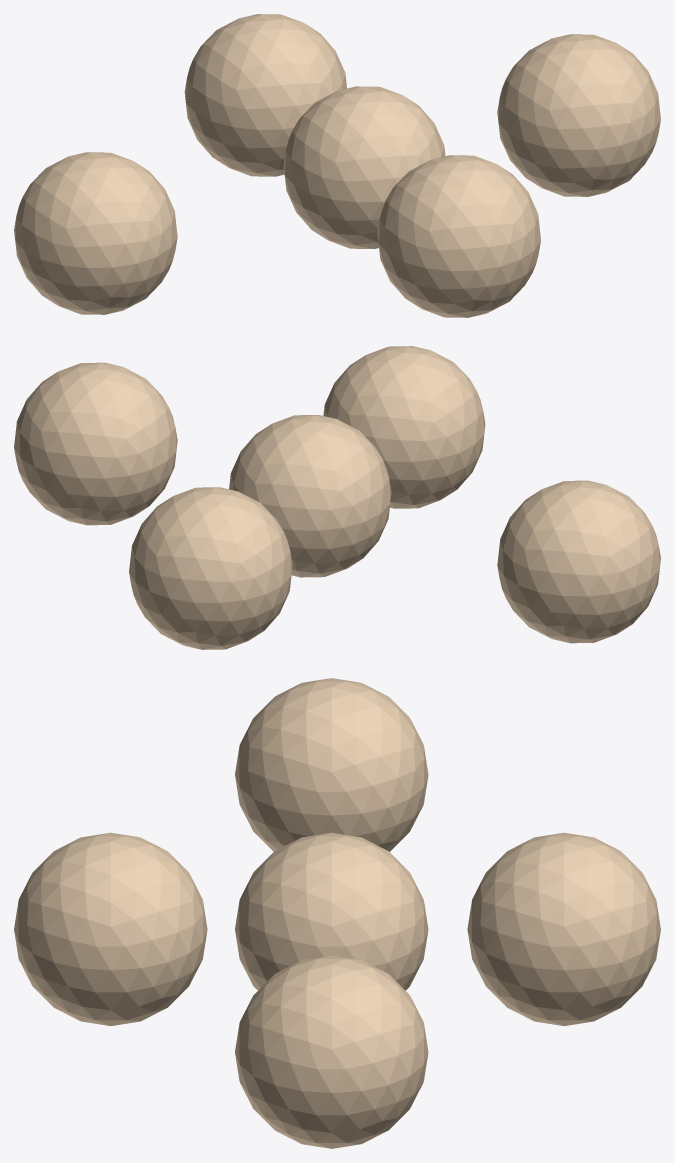
Rendered from SaltPile.fbx.
3 views of the same model, one above another, from view 1: azimuth 30°, elevation 25°; view 2: azimuth 150°, elevation 25°; view 3: azimuth 270°, elevation 25° (orthographic). The views are drawn at different scales.
Parts seen in each view (by area): view 1: Icosphere.001, Icosphere.004, Icosphere.002, Icosphere.003, Icosphere; view 2: Icosphere.003, Icosphere.001, Icosphere.004, Icosphere, Icosphere.002; view 3: Icosphere.004, Icosphere.002, Icosphere.003, Icosphere.001, Icosphere.
Part boxes in pixels (left/top/right/bottom): Icosphere.001: left=14, top=152, right=177, bottom=314; Icosphere.004: left=497, top=34, right=660, bottom=196; Icosphere.002: left=377, top=155, right=540, bottom=317; Icosphere.003: left=184, top=14, right=346, bottom=176; Icosphere: left=283, top=86, right=445, bottom=248; Icosphere.003: left=129, top=487, right=292, bottom=649; Icosphere.001: left=497, top=480, right=660, bottom=643; Icosphere.004: left=14, top=362, right=177, bottom=525; Icosphere: left=229, top=415, right=391, bottom=577; Icosphere.002: left=323, top=346, right=485, bottom=508; Icosphere.004: left=235, top=955, right=428, bottom=1148; Icosphere.002: left=14, top=832, right=207, bottom=1026; Icosphere.003: left=467, top=832, right=660, bottom=1026; Icosphere.001: left=235, top=678, right=428, bottom=851; Icosphere: left=235, top=832, right=428, bottom=990.
Size of the model in its own units: 190 by 43.35 by 145.
